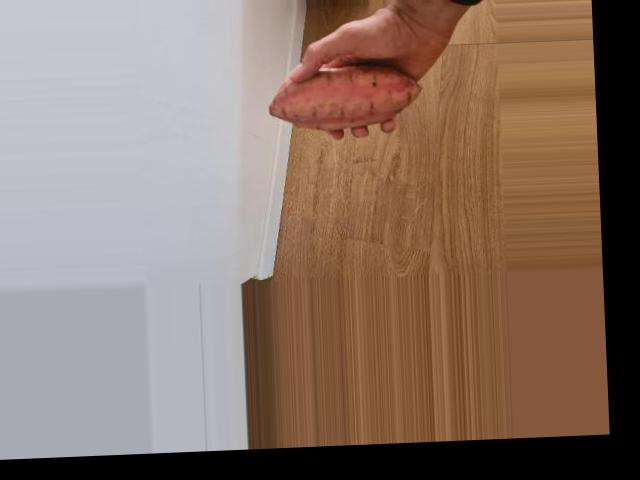sweet_potato: (265, 62, 428, 128)
